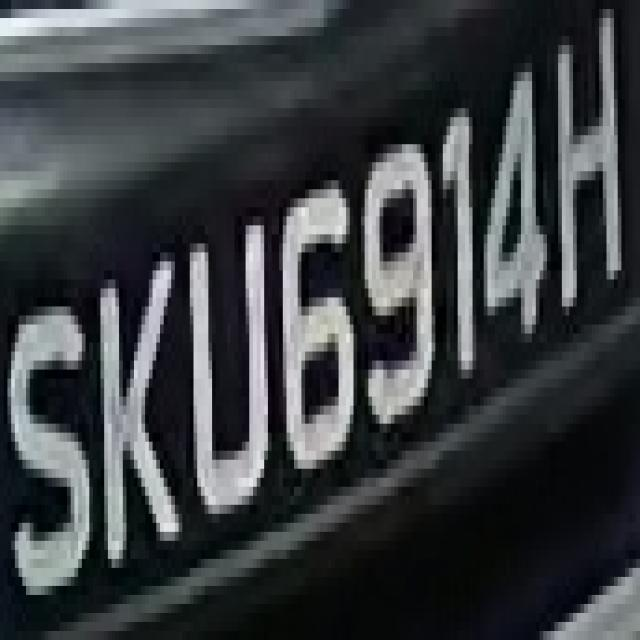1: (439, 63, 488, 406)
4: (469, 45, 551, 379)
6: (272, 135, 364, 496)
9: (342, 90, 439, 442)
H: (547, 18, 633, 316)
K: (89, 243, 190, 604)
S: (4, 270, 89, 631)
U: (182, 207, 276, 532)
